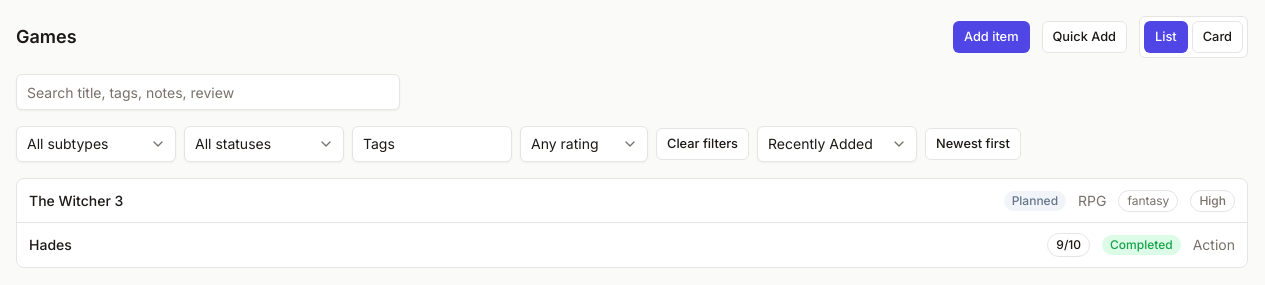
Test case: LibraryView › Status's direction toggle reads 'Ongoing → Dropped' / 'Dropped → Ongoing', not a generic Ascending/Descending label
Select "Status" in the dropdown named "Sort" at [837, 144], box [757,126,917,162]
Wait 300 ms
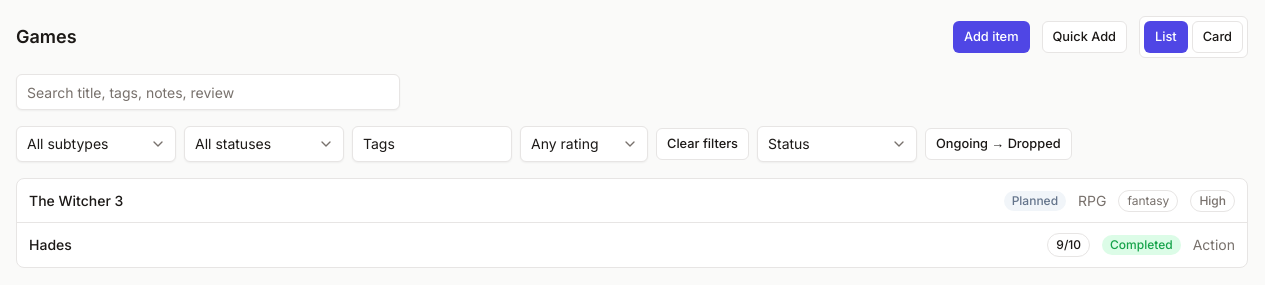
Expected: the button with aria-label "Sort direction" reads "Ongoing → Dropped"
Click the button with aria-label "Sort direction" at [998, 144], box [925,128,1072,160]
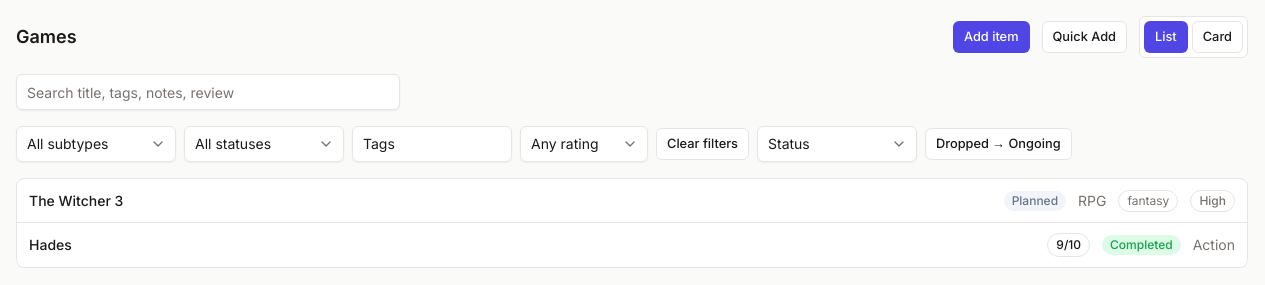
Expected: the button with aria-label "Sort direction" reads "Dropped → Ongoing", [925,128,1072,160]
